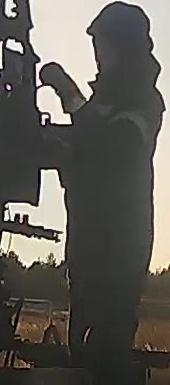gloves: (38, 60, 86, 116)
helmet: (84, 3, 152, 52)
vest: (70, 82, 170, 270)
